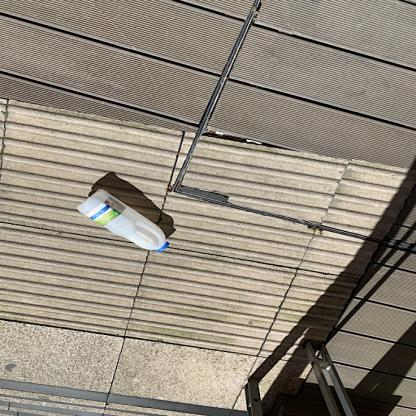trash: (75, 191, 174, 257)
